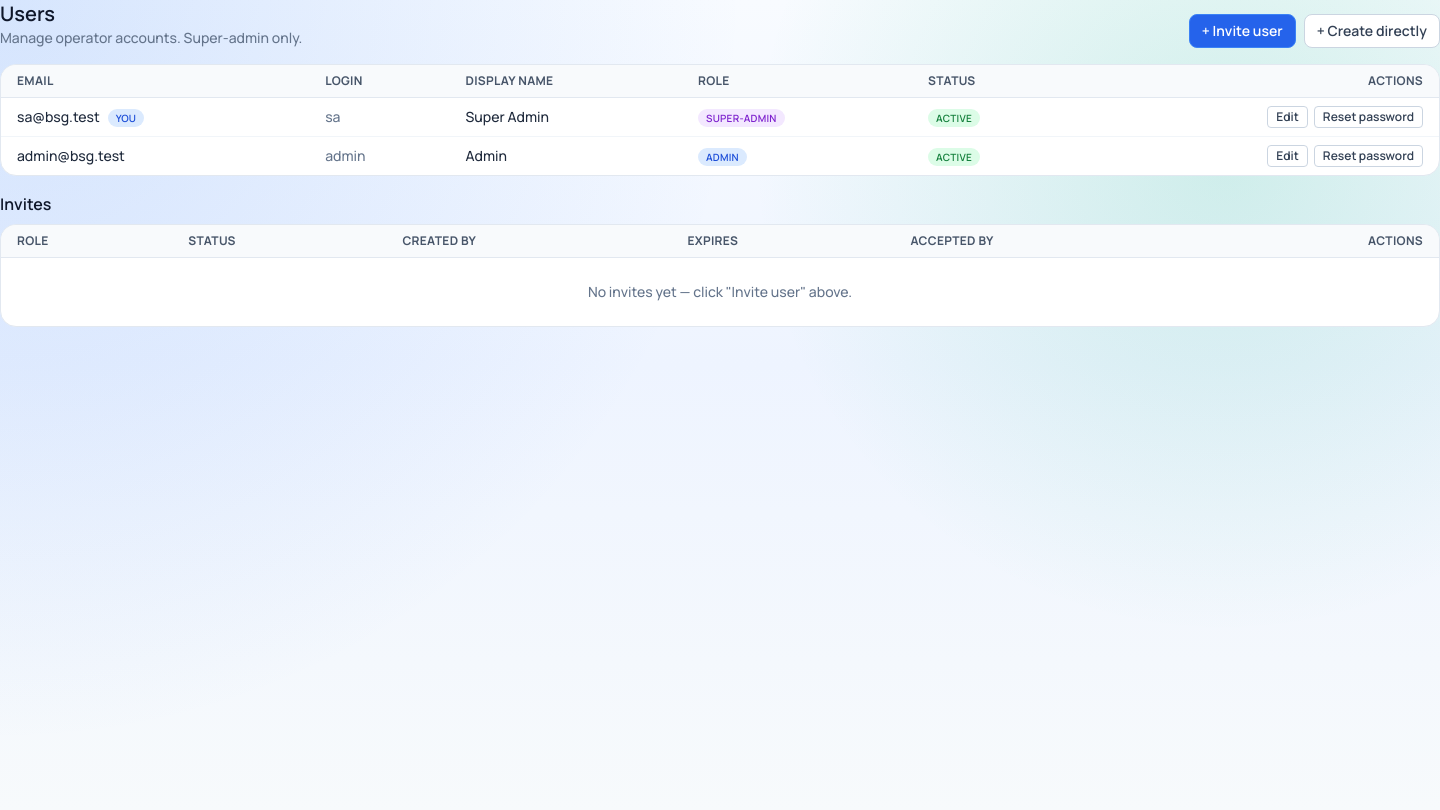
Scenario: AdminUsersPage — Edit modal › surfaces LAST_SUPER_ADMIN 422 inline without closing the modal
The image size is (1440, 810).
Expected: the text "admin@bsg.test" is shown, x1=1 y1=136 x2=309 y2=175
Click the button "Edit" in the row of "admin@bsg.test" at (1288, 156), box x1=1267 y1=145 x2=1308 y2=167
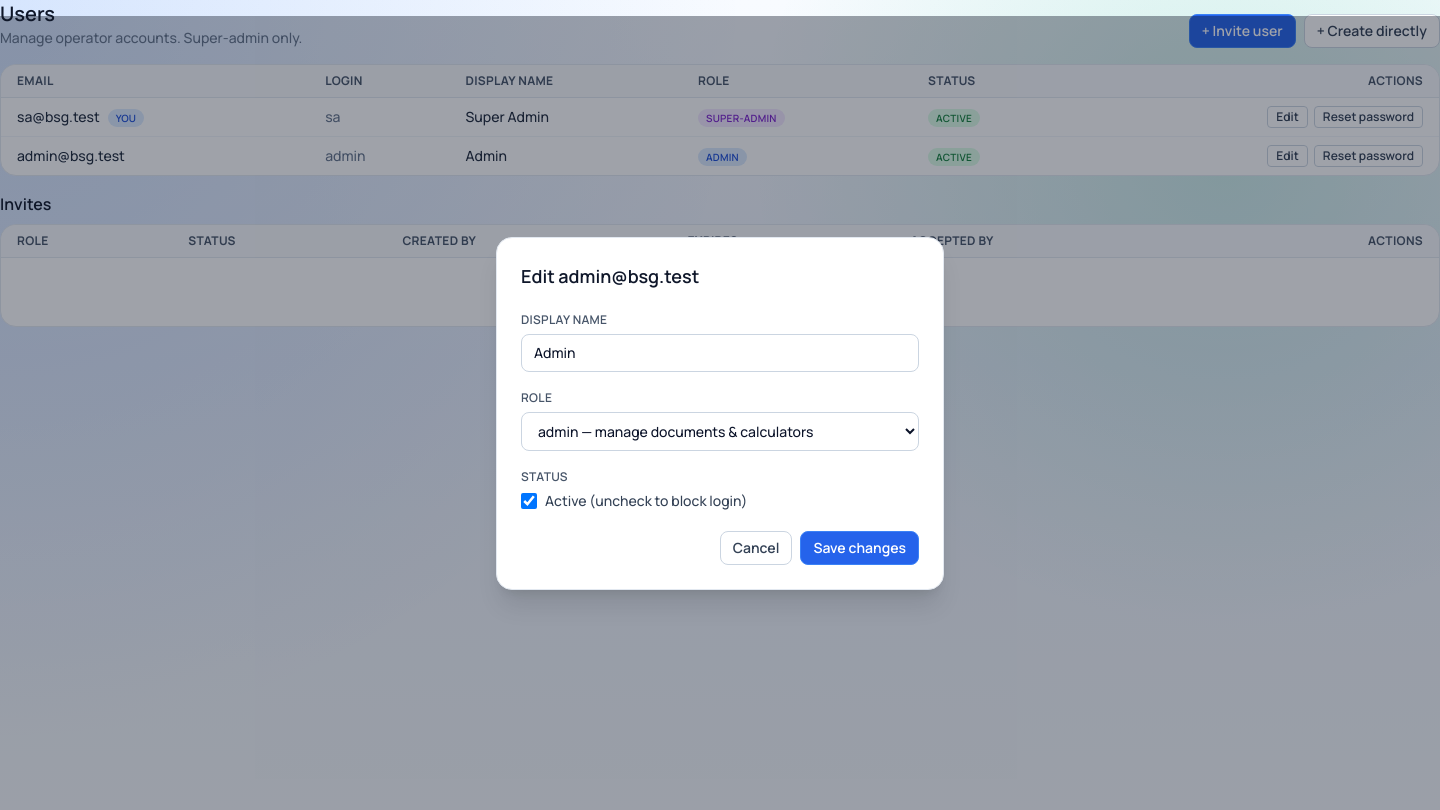
Replace the text in the field labelled "Display name" with "Renamed" at (720, 352), box x1=521 y1=334 x2=919 y2=372
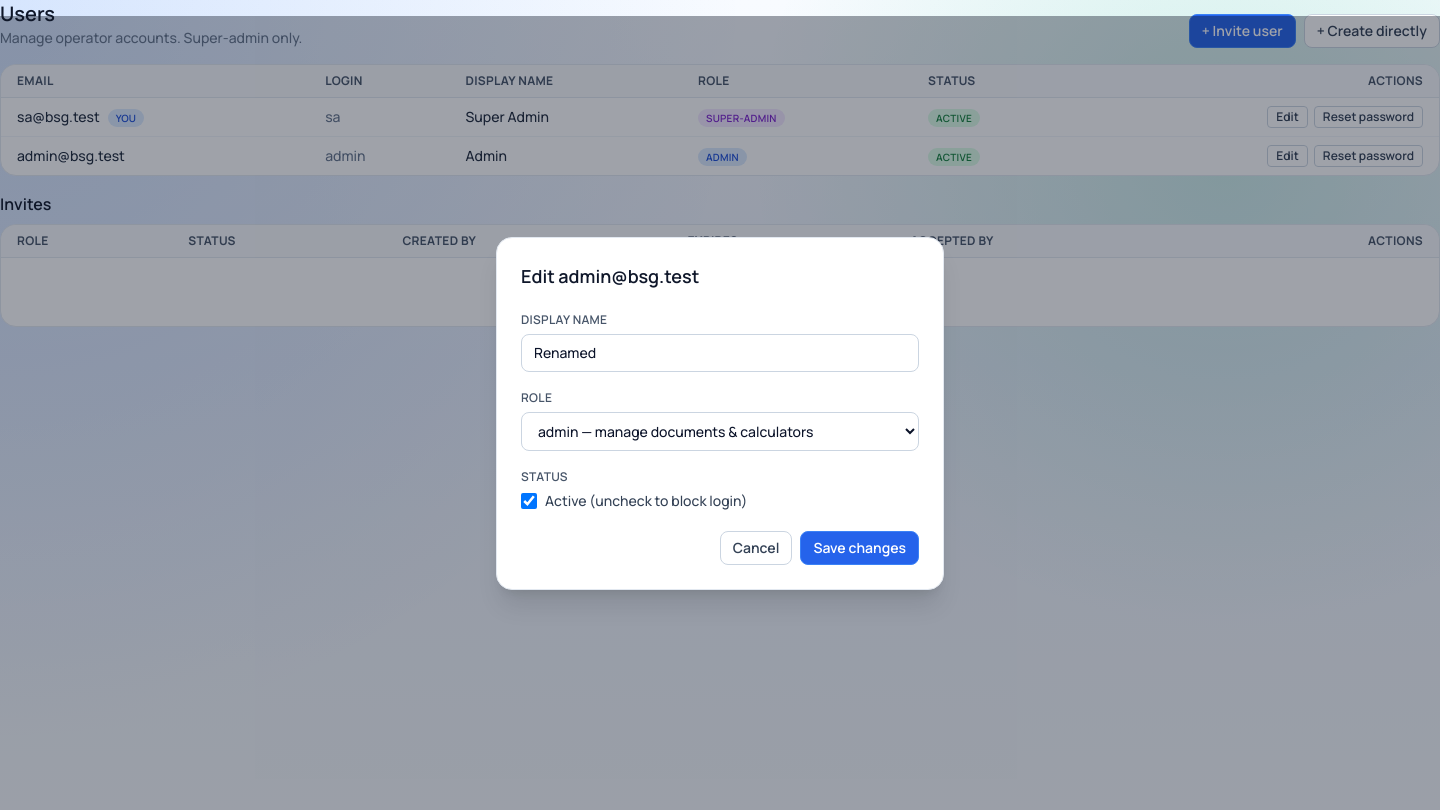
Click the button "Save changes" at (860, 548), box x1=800 y1=530 x2=919 y2=564
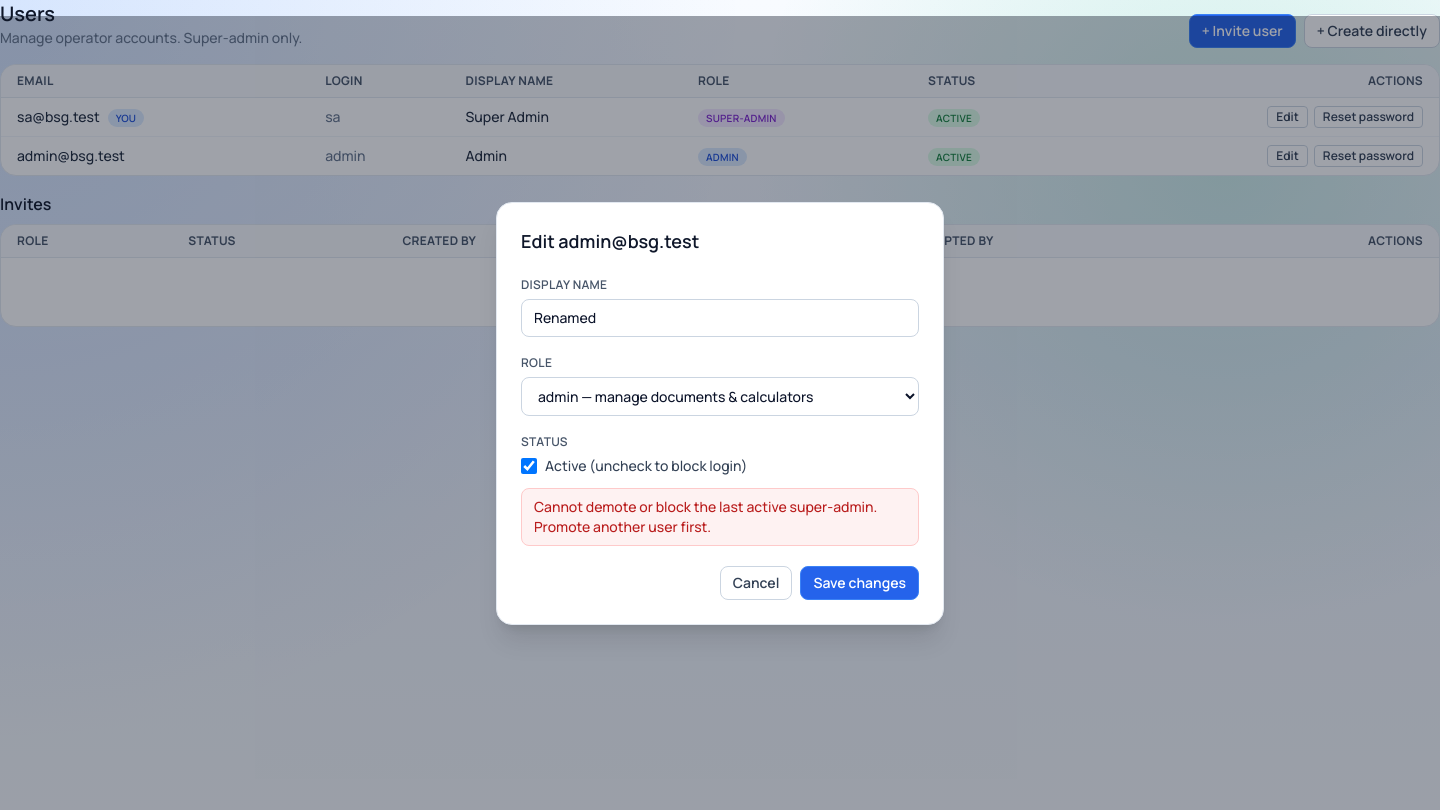
Expected: the text "Cannot demote or block the last active super-admin" is shown, x1=534 y1=496 x2=877 y2=536
